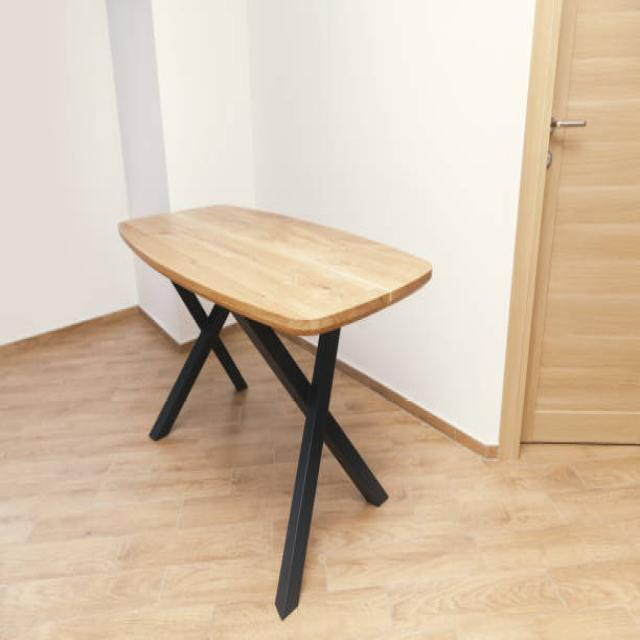table: (116, 200, 433, 620)
